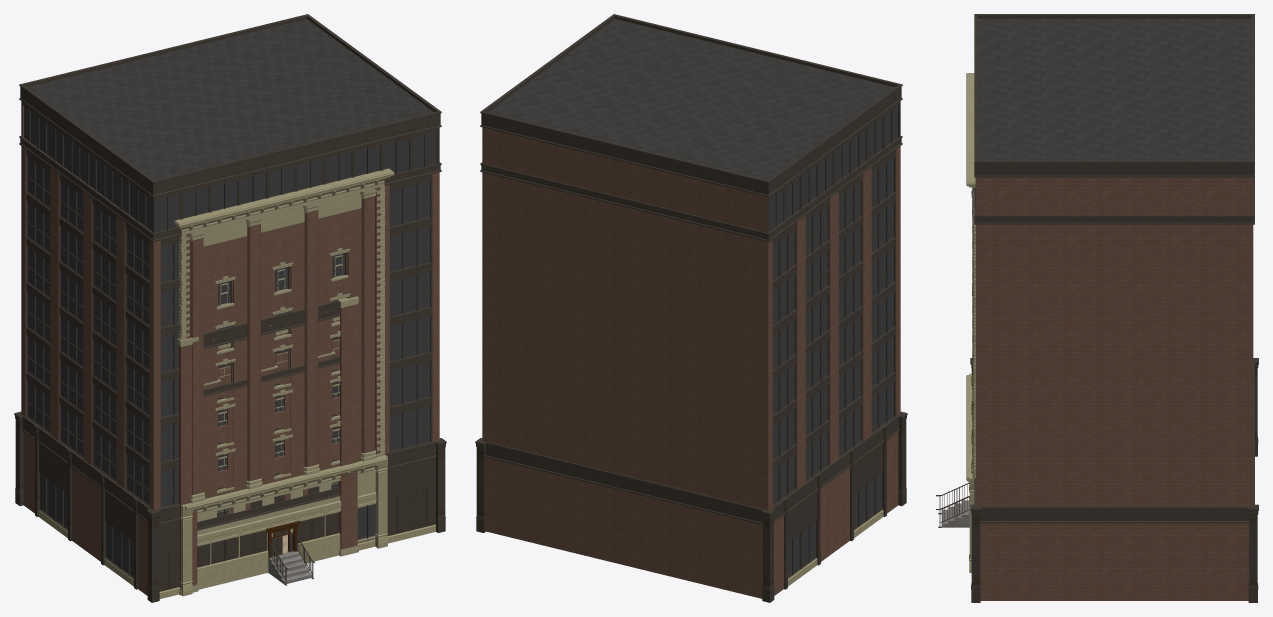
The model's file is stadtteile.glb.
The picture shows the model from 3 angles, left to right: view 1: azimuth 30°, elevation 25°; view 2: azimuth 150°, elevation 25°; view 3: azimuth 270°, elevation 25°; orthographic projection. The views are drawn at different scales.
Visible parts, largest first — view 1: Building_Large_2, Building_Medium_2_001, Building_Small_1; view 2: Building_Large_2; view 3: Building_Large_2, Building_Medium_2_001, Building_Small_1.
Boxes of the visible parts, x1,y1,x2,y2 form: Building_Large_2: [14, 14, 446, 602]; Building_Medium_2_001: [174, 168, 394, 596]; Building_Small_1: [177, 296, 358, 595]; Building_Large_2: [475, 14, 907, 602]; Building_Large_2: [970, 14, 1258, 602]; Building_Medium_2_001: [966, 73, 975, 572]; Building_Small_1: [936, 200, 972, 527].
Bounding box in the file's own units: 20.64 × 28.01 × 18.63.
Materials: 12 (11 with a texture image).
